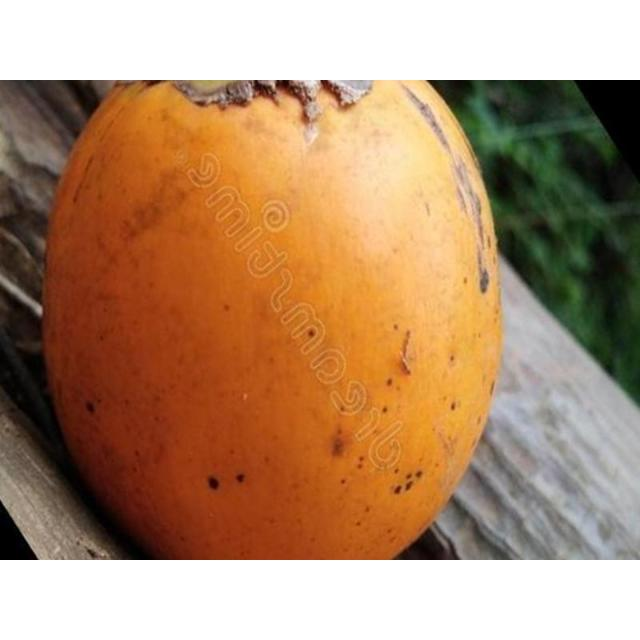good: (41, 80, 504, 559)
